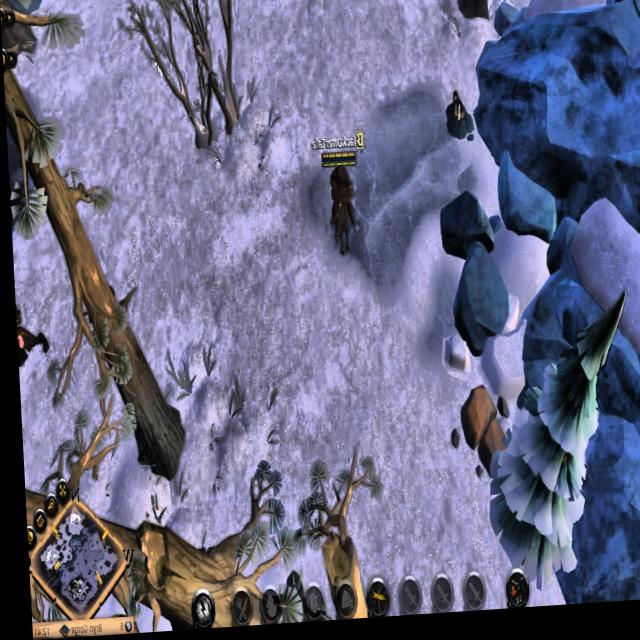copperore: (442, 94, 476, 148)
limestone: (452, 385, 507, 485)
